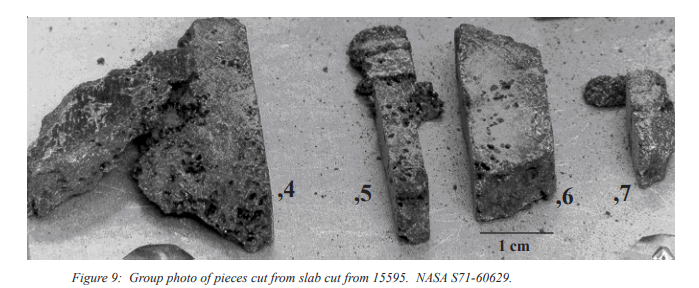Basalt: (66, 50, 269, 262), (452, 22, 562, 220), (370, 24, 434, 247), (579, 53, 684, 188)
